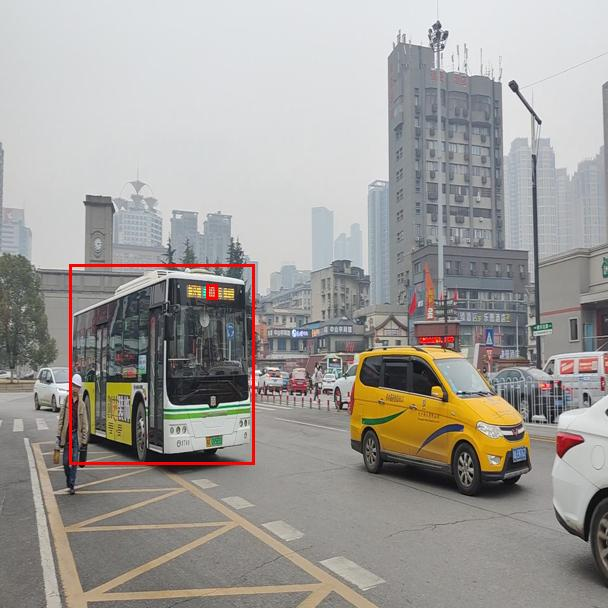bus: (69, 264, 254, 464)
screen: (206, 284, 217, 299)
